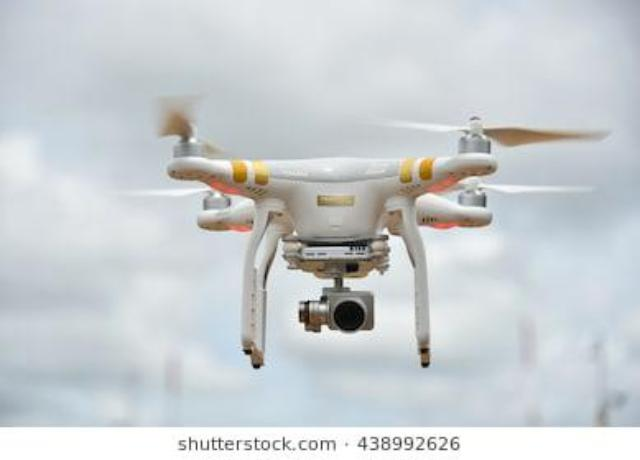drone: (0, 35, 640, 411)
